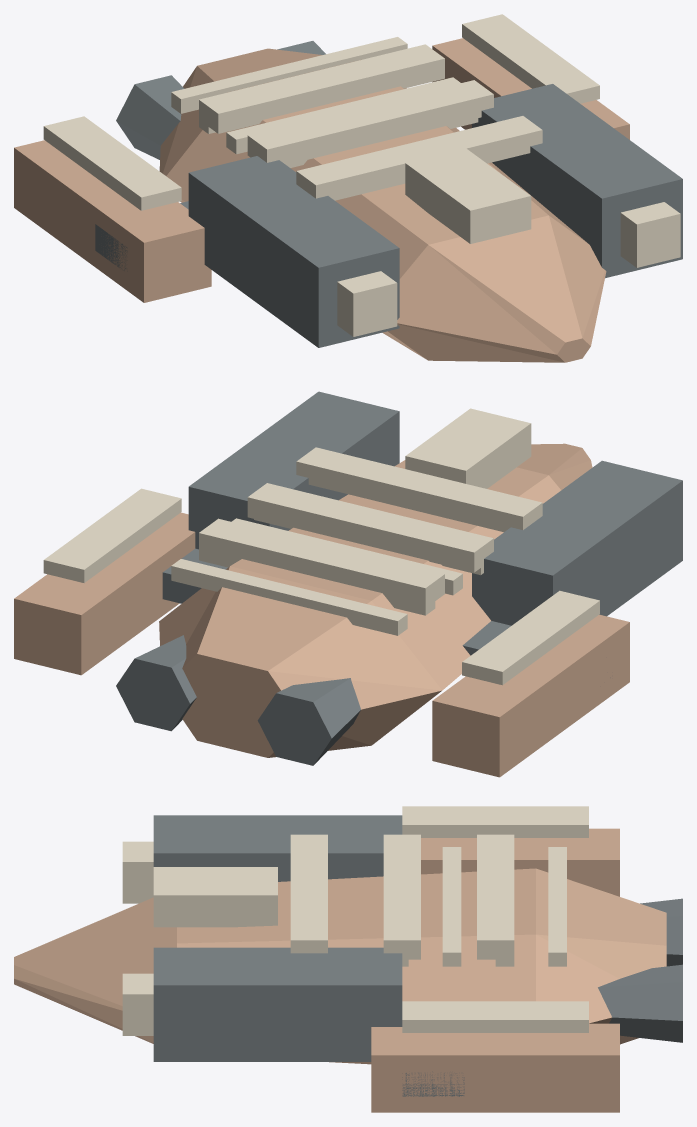
3 views of the same model, one above another, from view 1: azimuth 30°, elevation 25°; view 2: azimuth 150°, elevation 25°; view 3: azimuth 270°, elevation 25° (orthographic). The views are drawn at different scales.
Size of the model in its own units: 3.31 by 1.08 by 4.13.
